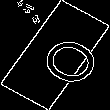O_NW: (17, 23, 93, 87)
